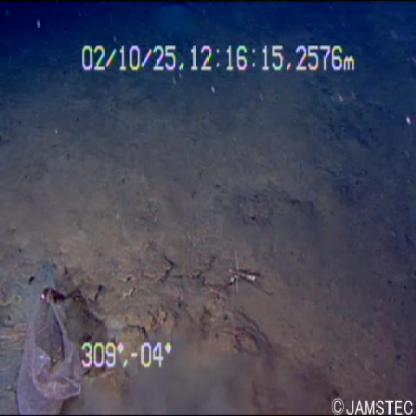Rác: (14, 268, 92, 415)
